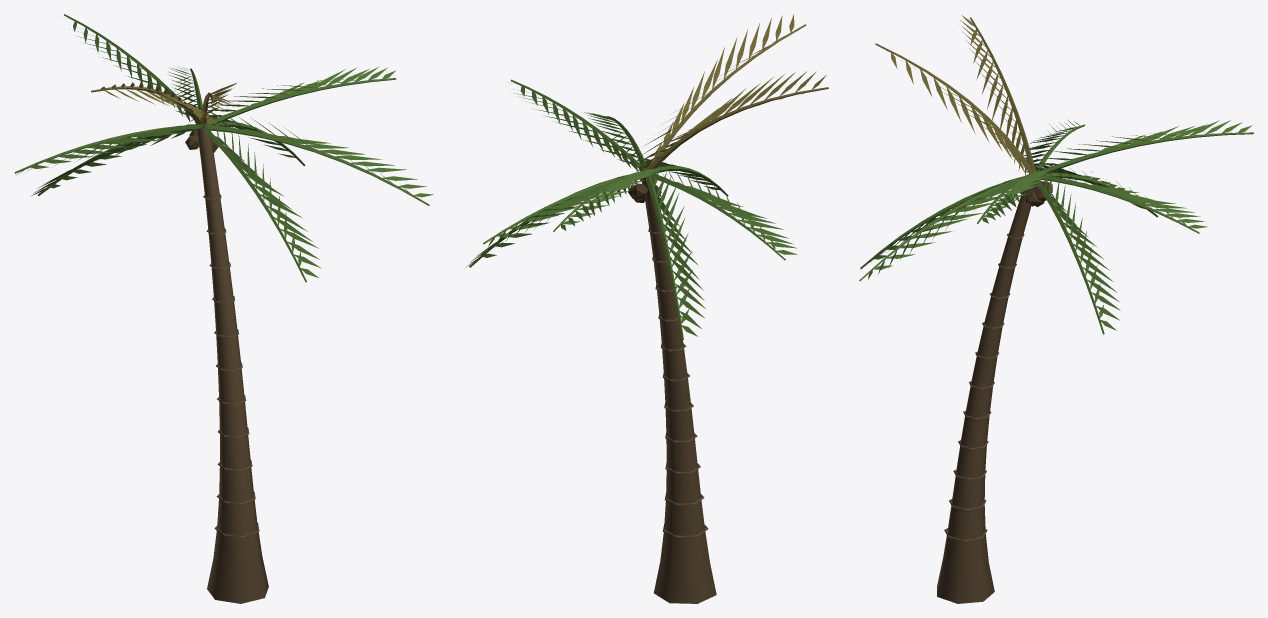
File: palm_tree_b.glb
The picture shows the model from 3 angles, left to right: view 1: azimuth 30°, elevation 25°; view 2: azimuth 150°, elevation 25°; view 3: azimuth 270°, elevation 25°; orthographic projection. The views are drawn at different scales.
Visible parts, largest first — view 1: PalmTrunk, PalmCrown, PalmCrownDry, PalmTree; view 2: PalmTrunk, PalmCrown, PalmCrownDry, PalmTree; view 3: PalmCrown, PalmTrunk, PalmCrownDry, PalmTree.
Part boxes in pixels (bbox=[...]): PalmTrunk: bbox=[197, 127, 268, 603]; PalmCrown: bbox=[14, 14, 433, 282]; PalmCrownDry: bbox=[91, 82, 236, 128]; PalmTree: bbox=[185, 130, 259, 537]; PalmTrunk: bbox=[642, 177, 716, 603]; PalmCrown: bbox=[465, 79, 797, 339]; PalmCrownDry: bbox=[636, 14, 828, 171]; PalmTree: bbox=[628, 183, 708, 537]; PalmCrown: bbox=[859, 119, 1253, 334]; PalmTrunk: bbox=[937, 174, 1037, 603]; PalmCrownDry: bbox=[875, 15, 1037, 180]; PalmTree: bbox=[944, 180, 1052, 541].
Size of the model in its own units: 5.02 by 7.76 by 5.36.
